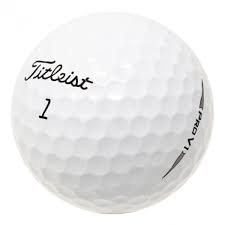golfball: (8, 12, 216, 215)
